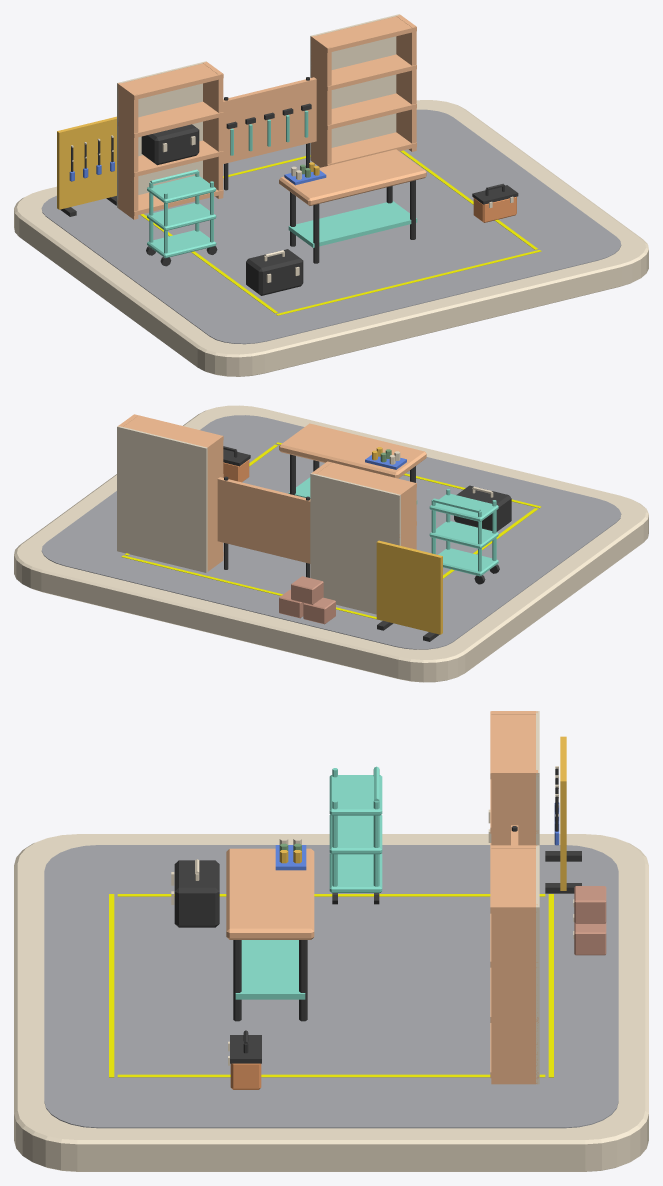
3 renders of one model, top to bottom at view 1: azimuth 30°, elevation 25°; view 2: azimuth 150°, elevation 25°; view 3: azimuth 270°, elevation 25°, orthographic. The views are drawn at different scales.
Parts seen in each view (by area): view 1: COM-02 Floor Surface, COM-01 Rounded Base Direct, Peg board, Panel, Worktop, Back.001, Lower shelf, Back, Side, Side.002, Case, Side.003 (+15 smaller); view 2: COM-02 Floor Surface, COM-01 Rounded Base Direct, Back.001, Back, Peg board, Panel, Worktop, Side.002, Shelf.003, Shelf.007, Case, Tray.001 (+8 smaller); view 3: COM-02 Floor Surface, COM-01 Rounded Base Direct, Worktop, Side.003, Lower shelf, Case, Shelf.003, Shelf.007, Side.001, Tray.002, Tray.001, Tray (+12 smaller).
Boxes of the visible parts, <box> form: COM-02 Floor Surface: <box>41,109,621,344</box>; COM-01 Rounded Base Direct: <box>14,100,648,376</box>; Peg board: <box>223,77,316,163</box>; Panel: <box>57,116,116,209</box>; Worktop: <box>279,149,426,205</box>; Back.001: <box>310,14,399,160</box>; Lower shelf: <box>288,201,417,247</box>; Back: <box>117,61,207,207</box>; Side: <box>118,83,138,219</box>; Side.002: <box>311,36,331,167</box>; Case: <box>246,249,303,295</box>; Side.003: <box>396,15,416,151</box>; COM-02 Floor Surface: <box>41,415,621,649</box>; COM-01 Rounded Base Direct: <box>14,405,648,682</box>; Back.001: <box>117,426,207,572</box>; Back: <box>310,473,400,614</box>; Peg board: <box>217,477,310,563</box>; Panel: <box>376,540,442,634</box>; Worktop: <box>279,423,426,478</box>; Side.002: <box>203,435,223,571</box>; Shelf.003: <box>316,461,416,499</box>; Shelf.007: <box>123,414,223,451</box>; Case: <box>454,485,511,531</box>; Tray.001: <box>429,521,498,549</box>; COM-02 Floor Surface: <box>44,845,618,1128</box>; COM-01 Rounded Base Direct: <box>14,834,648,1171</box>; Worktop: <box>226,848,314,939</box>; Side.003: <box>491,904,537,1084</box>; Lower shelf: <box>235,940,305,999</box>; Case: <box>174,860,219,927</box>; Shelf.003: <box>490,711,538,779</box>; Shelf.007: <box>490,845,536,913</box>; Side.001: <box>491,770,537,845</box>; Tray.002: <box>329,775,382,815</box>; Tray.001: <box>329,814,382,854</box>; Tray: <box>329,853,382,892</box>.
Size of the model in its own units: 6 by 1.9 by 5.2.
1 material, 1 textured.
